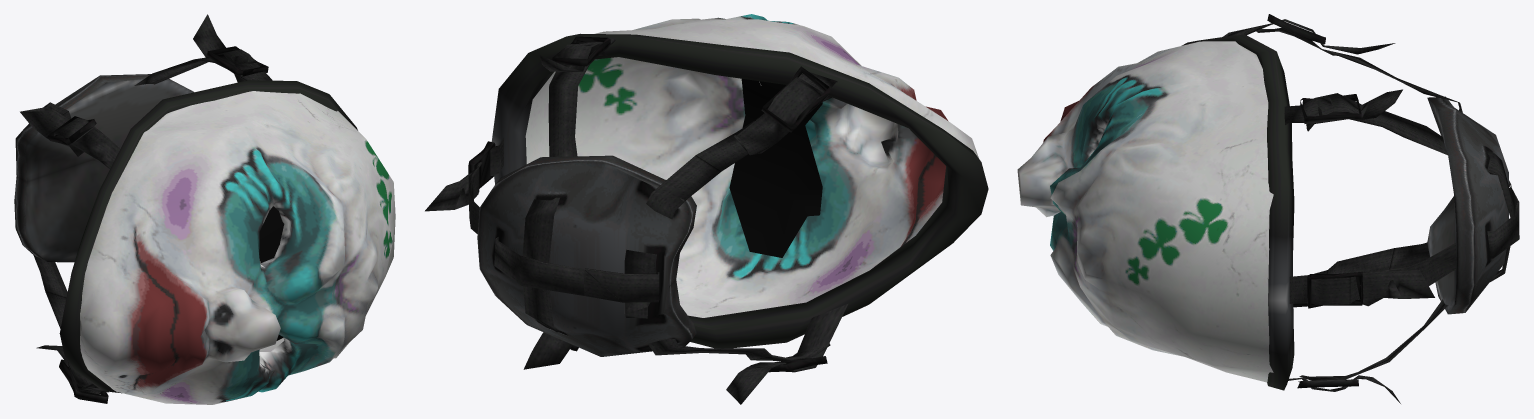
File: M_PaydayCloverMask.fbx
3 views of the same model, side by side, from view 1: azimuth 30°, elevation 25°; view 2: azimuth 150°, elevation 25°; view 3: azimuth 270°, elevation 25° (orthographic). The views are drawn at different scales.
Visible parts, largest first — view 1: CloverMask; view 2: CloverMask; view 3: CloverMask.
Boxes of the visible parts, x1,y1,x2,y2 form: CloverMask: [14, 14, 395, 404]; CloverMask: [425, 14, 988, 404]; CloverMask: [1017, 14, 1519, 403].
Size of the model in its own units: 0.1766 by 0.1308 by 0.1923.
